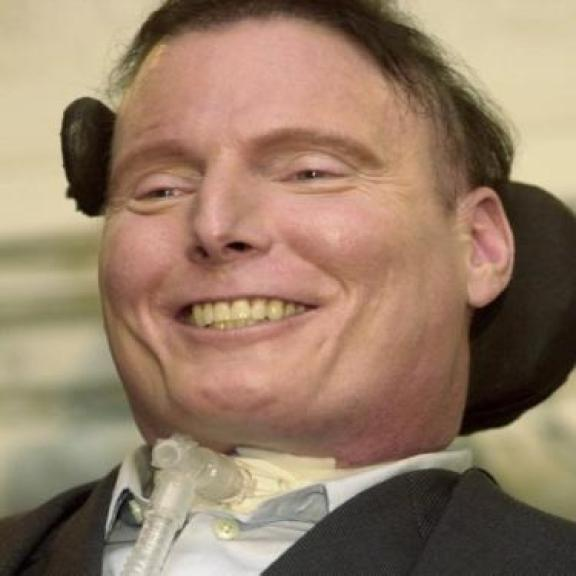face: (103, 50, 522, 466)
